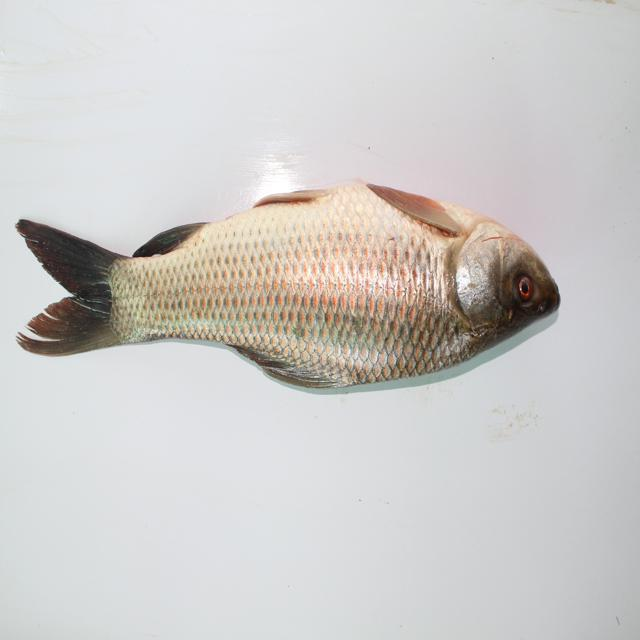Rohu: (4, 162, 554, 397)
